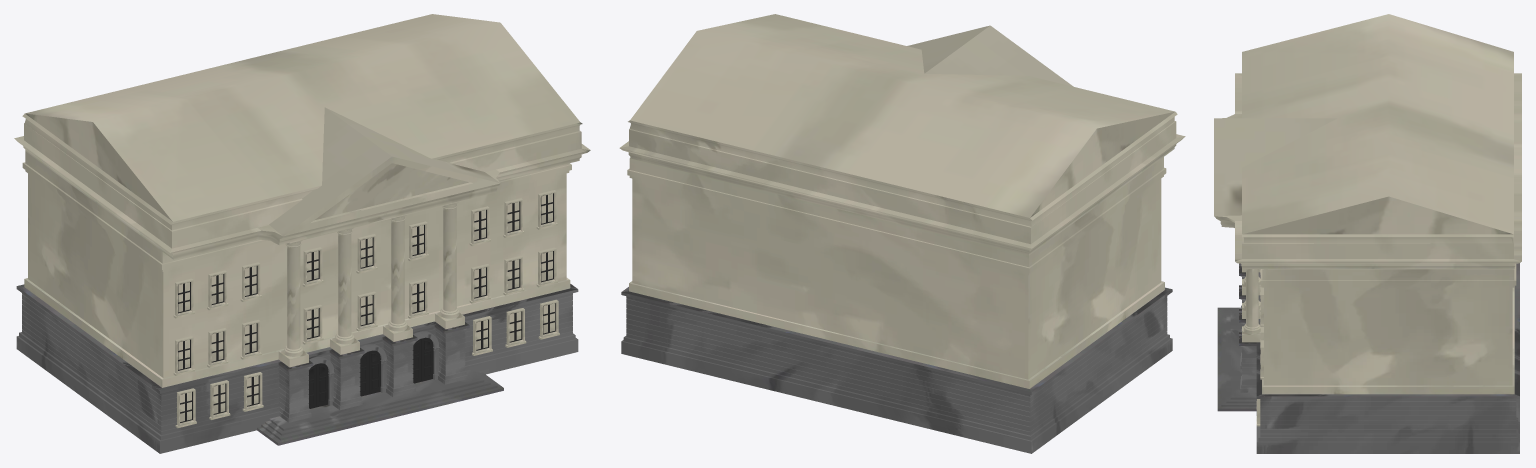
The model's file is edificio.glb.
3 views of the same model, side by side, from view 1: azimuth 30°, elevation 25°; view 2: azimuth 150°, elevation 25°; view 3: azimuth 270°, elevation 25° (orthographic). The views are drawn at different scales.
Parts seen in each view (by area): view 1: Stadhuis_blinn1_0; view 2: Stadhuis_blinn1_0; view 3: Stadhuis_blinn1_0.
Part boxes in pixels (box(x1,y1,x2,y2)): Stadhuis_blinn1_0: box(14, 14, 590, 453); Stadhuis_blinn1_0: box(619, 14, 1185, 453); Stadhuis_blinn1_0: box(1214, 14, 1521, 453).
Bounding box in the file's own units: 25.14 × 15.88 × 17.38.
Materials: 1 (1 with a texture image).
